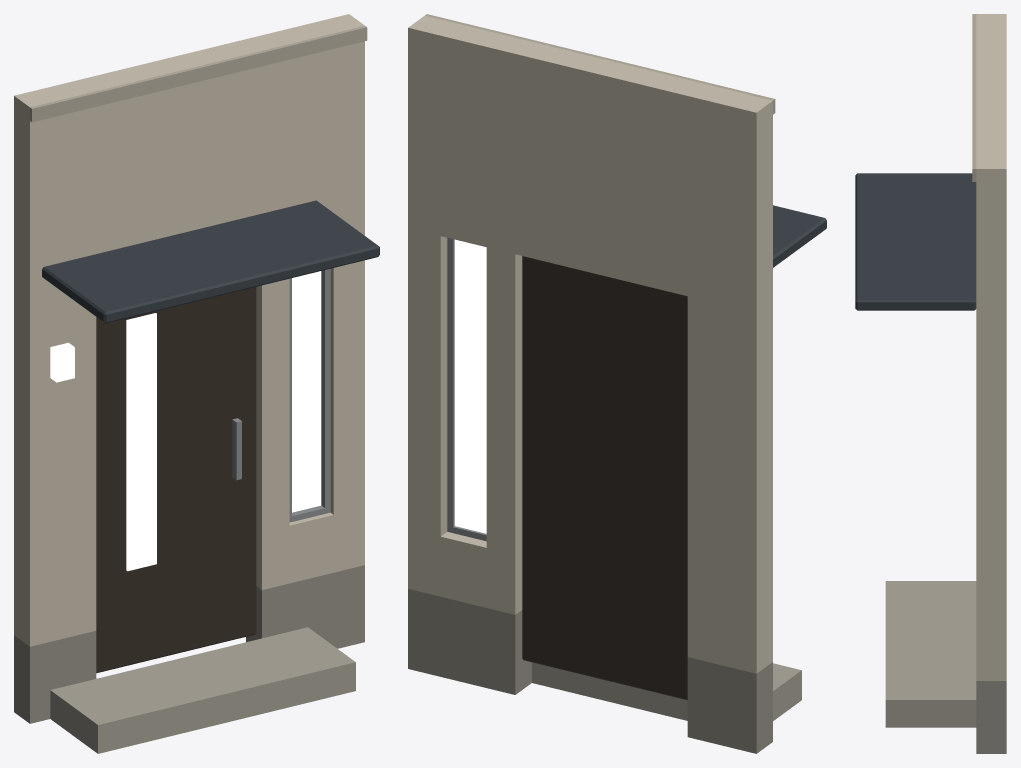
Rendered from building_bay_entrance_01.glb.
3 views of the same model, side by side, from view 1: azimuth 30°, elevation 25°; view 2: azimuth 150°, elevation 25°; view 3: azimuth 270°, elevation 25° (orthographic). The views are drawn at different scales.
Visible parts, largest first — view 1: building_bay_entrance_01; view 2: building_bay_entrance_01; view 3: building_bay_entrance_01.
Part boxes in pixels (bbox=[...]): building_bay_entrance_01: bbox=[14, 14, 379, 753]; building_bay_entrance_01: bbox=[408, 14, 826, 753]; building_bay_entrance_01: bbox=[855, 14, 1006, 753].
Bounding box in the file's own units: 1.82 × 3.2 × 0.75.
